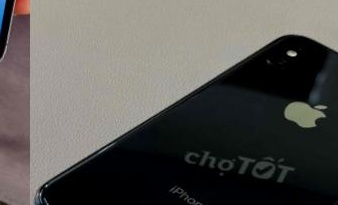scratch: (279, 29, 315, 46), (133, 192, 179, 205)
